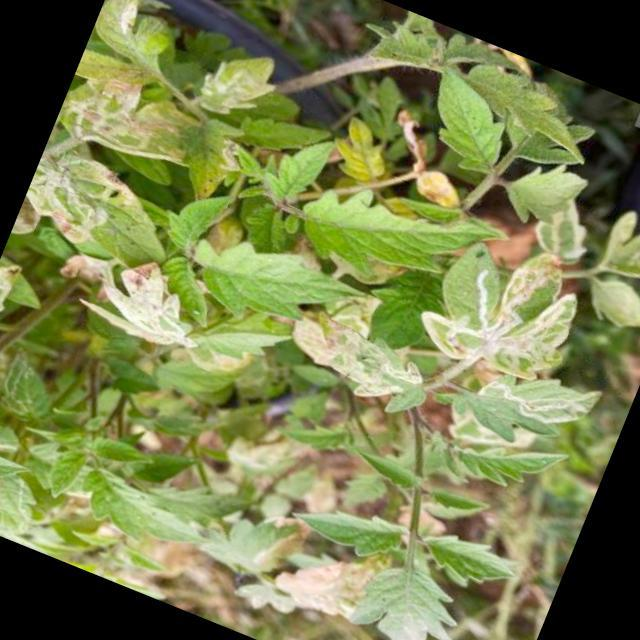Tomato target spot leaf: (408, 216, 602, 398), (13, 142, 190, 282), (272, 302, 444, 428), (442, 338, 604, 469), (49, 63, 210, 188), (88, 248, 218, 360), (163, 295, 289, 389), (190, 36, 288, 132), (84, 0, 190, 80), (522, 188, 602, 272), (594, 206, 640, 290), (0, 256, 24, 339)
